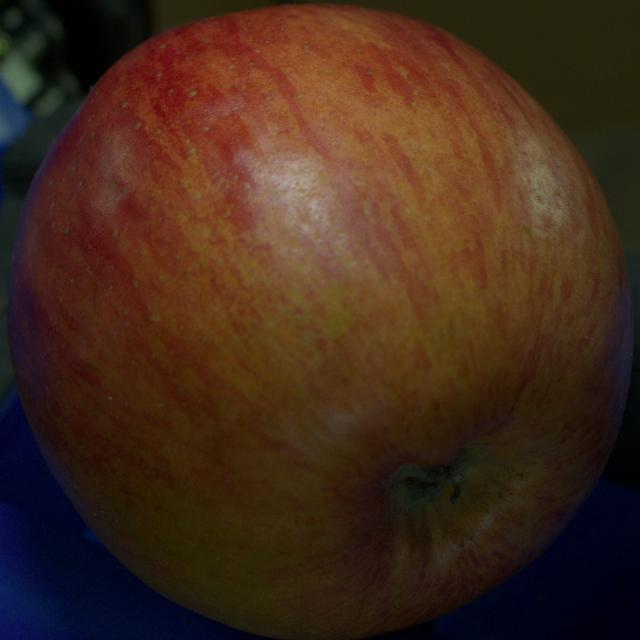apple: (8, 5, 632, 639)
